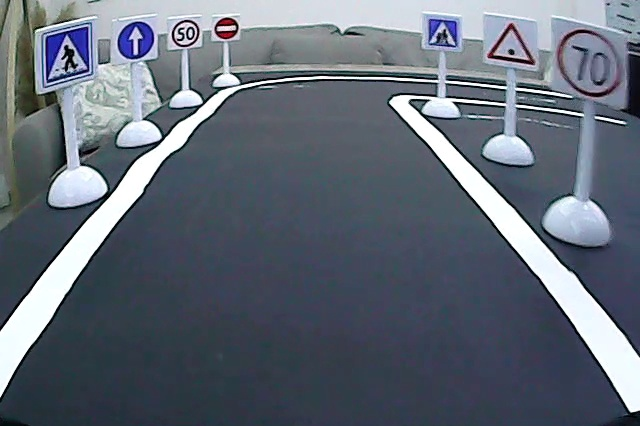do not enter: (214, 15, 241, 42)
green light: (484, 20, 538, 67)
pedestrian crossing: (37, 25, 94, 85)
school crossing: (425, 16, 458, 49)
speed limit 50: (171, 18, 201, 49)
speed limit 70: (555, 26, 626, 104)
